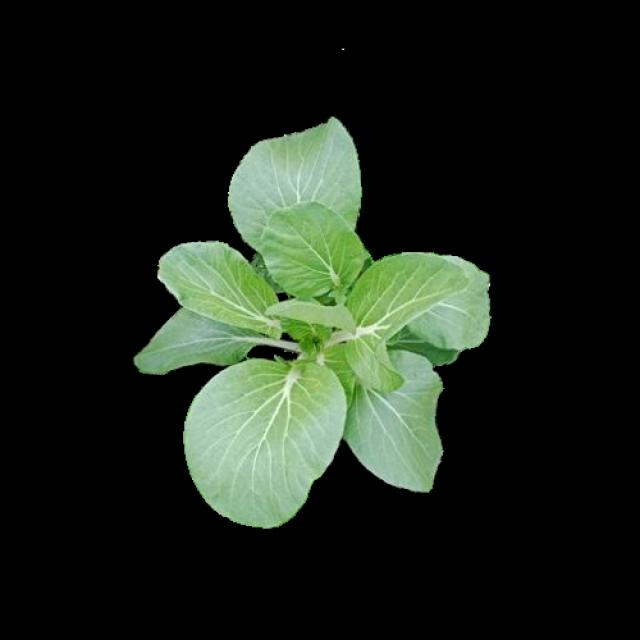healthy: (134, 131, 488, 526)
mature: (132, 116, 490, 528)
